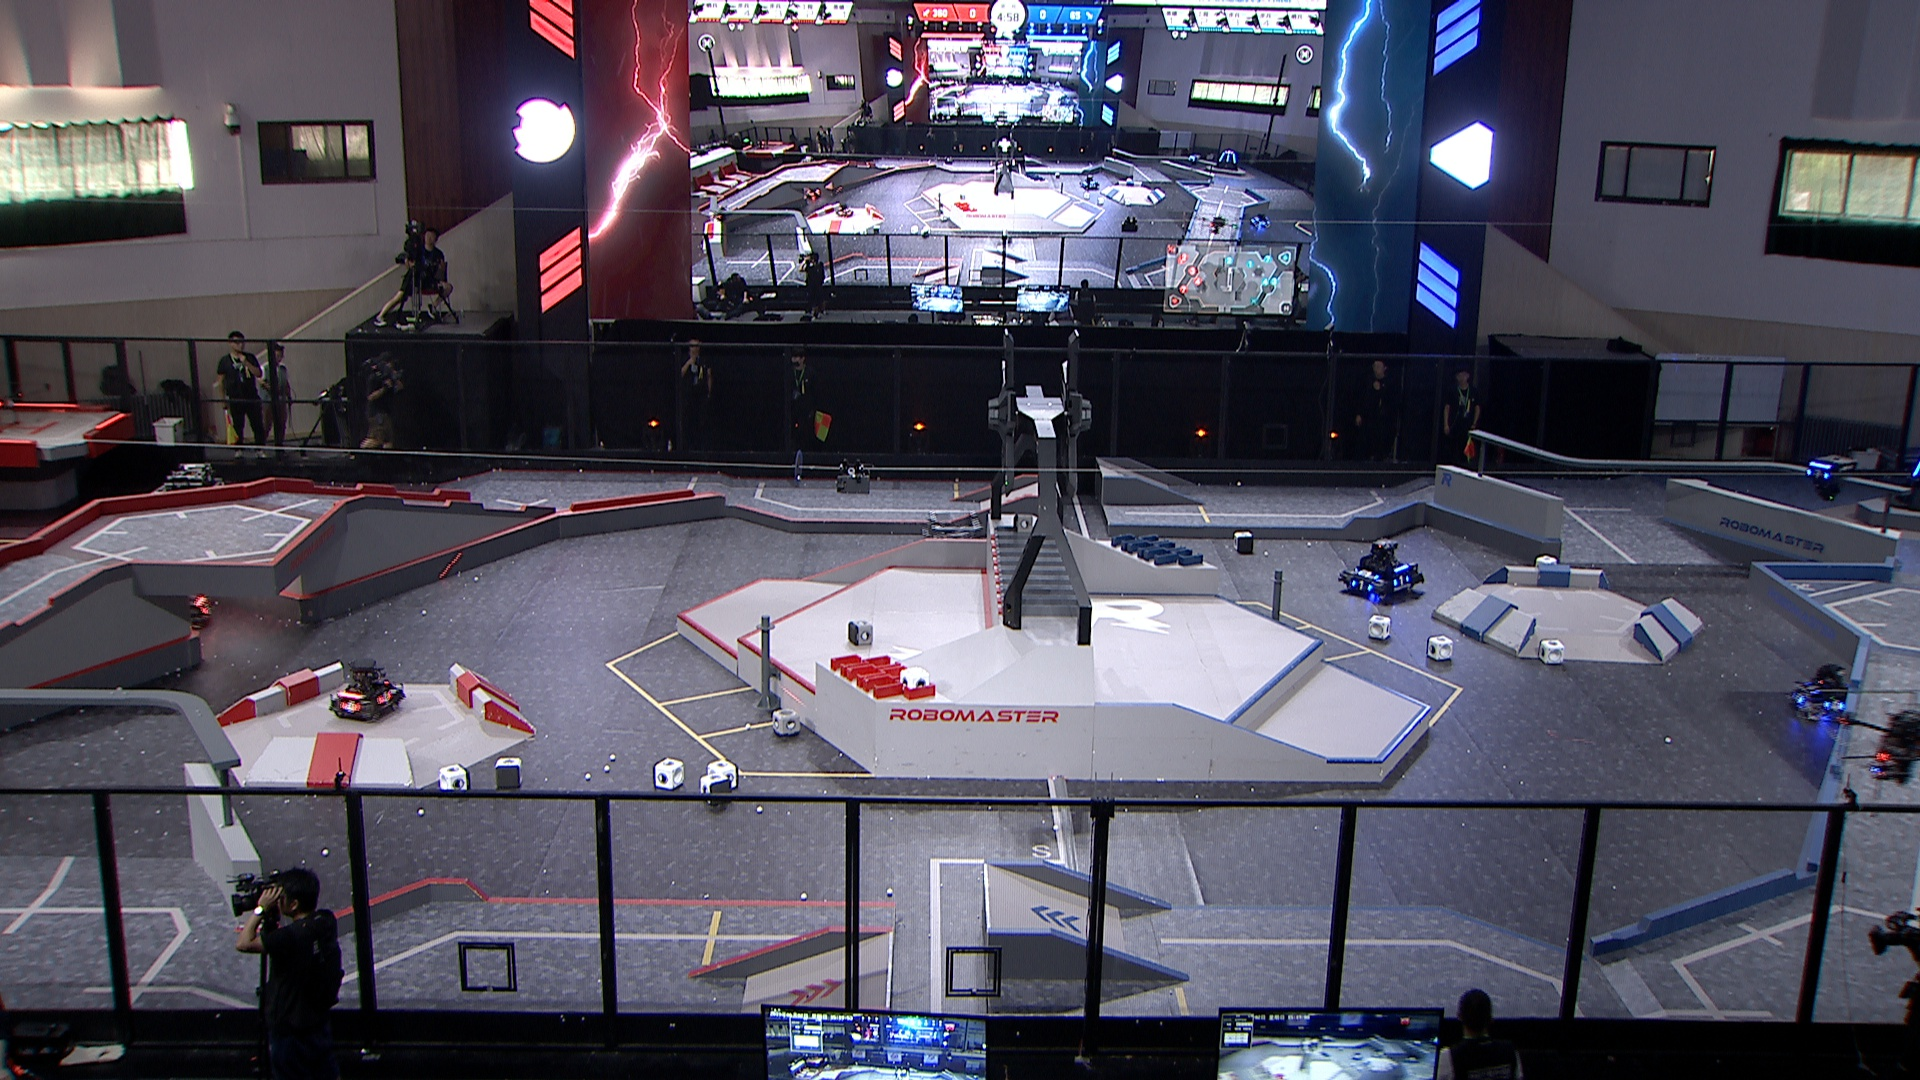armor: (1349, 578, 1375, 593), (1804, 467, 1832, 481), (1390, 574, 1414, 589), (338, 698, 361, 713), (1356, 568, 1382, 582), (377, 688, 396, 707), (1821, 698, 1844, 712), (1789, 690, 1807, 704), (200, 600, 215, 617), (1909, 458, 1920, 480), (1807, 684, 1822, 695)
base: (1888, 429, 1920, 513)
car: (152, 463, 233, 538), (1337, 537, 1424, 603), (324, 659, 409, 723), (916, 513, 986, 585), (1785, 665, 1855, 723), (148, 575, 219, 626)
ignore: (1215, 149, 1240, 171), (1079, 171, 1102, 191), (1247, 214, 1273, 229), (833, 200, 855, 219), (803, 186, 822, 199)
watcher: (1803, 458, 1844, 504)
